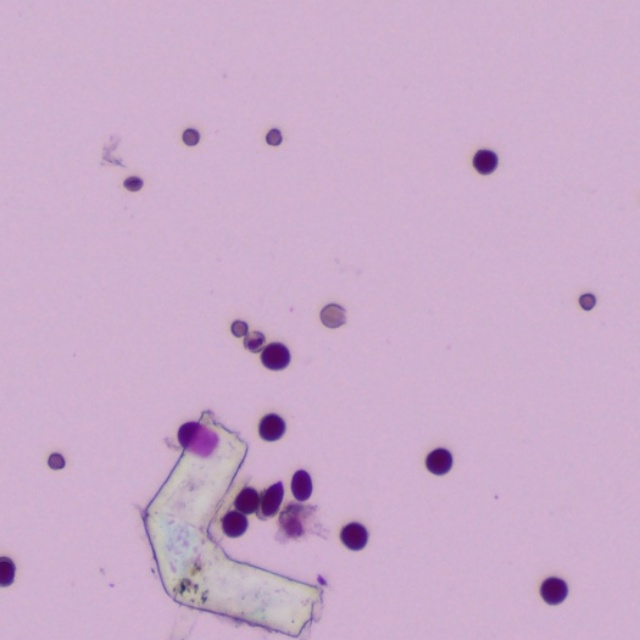intermediate: (244, 331, 265, 350), (123, 176, 142, 190)
non_viable: (319, 302, 344, 328), (182, 128, 199, 145), (266, 128, 282, 145), (579, 293, 595, 309), (232, 322, 246, 335)
viable: (179, 423, 209, 452), (540, 576, 567, 604), (340, 522, 367, 548), (258, 413, 284, 440), (258, 485, 281, 515), (425, 448, 451, 474), (262, 344, 288, 367), (473, 150, 496, 173), (292, 472, 310, 499), (223, 512, 245, 534), (236, 489, 257, 511), (0, 557, 14, 585), (47, 452, 64, 469)
